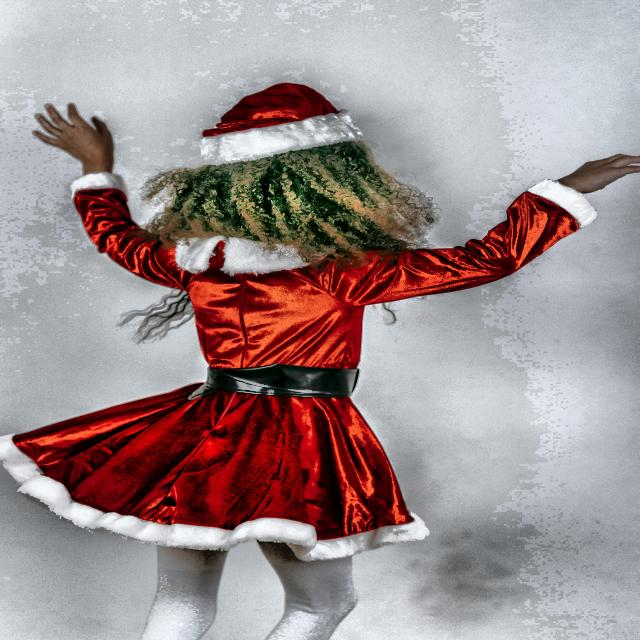Human: (29, 83, 564, 628)
